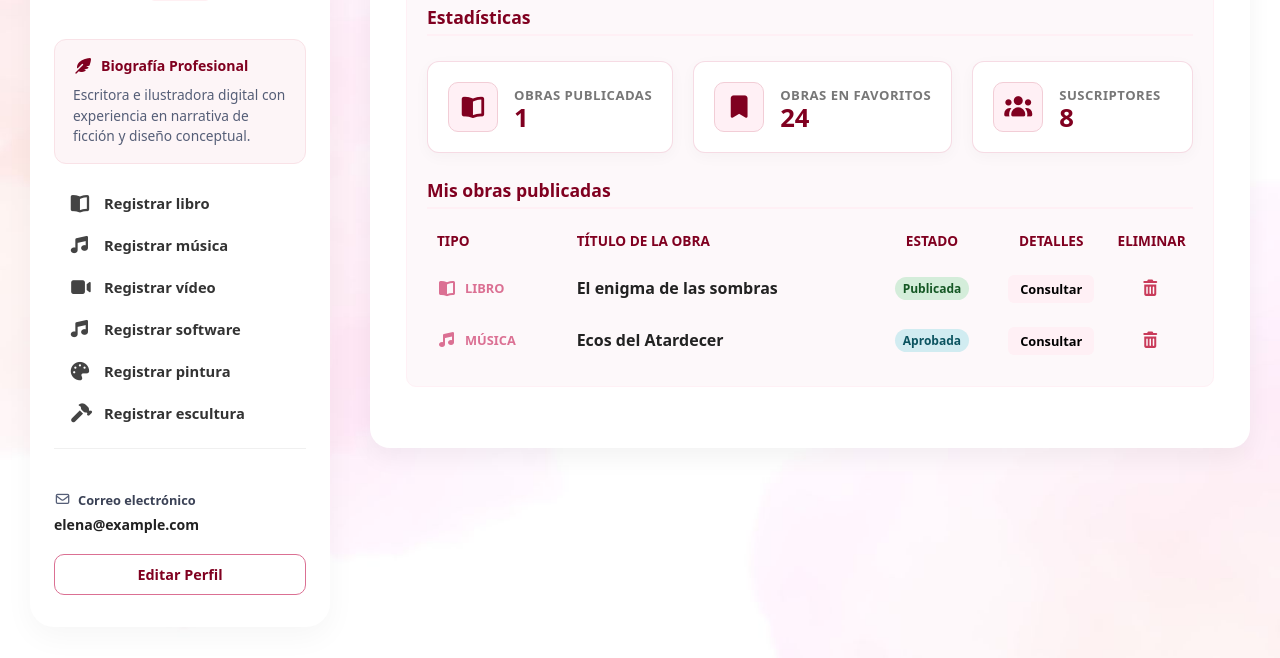
Panel Principal › Vista de Autor › permite editar la biografía profesional del autor
(page scrolled)
Click the button with class "btn-outline-edit" at (180, 575), box [54,554,306,595]
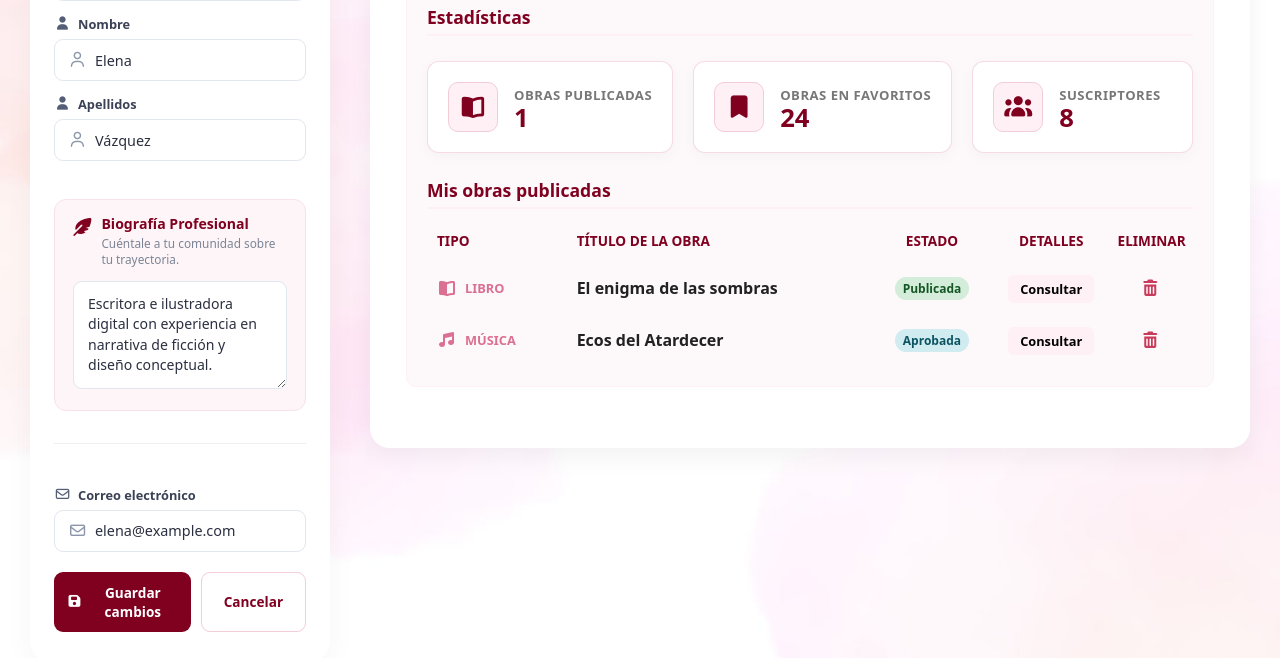
Replace the text in the text box with class "edit-bio-textarea" with "Nueva biografía." at (180, 335), box [73,281,287,389]
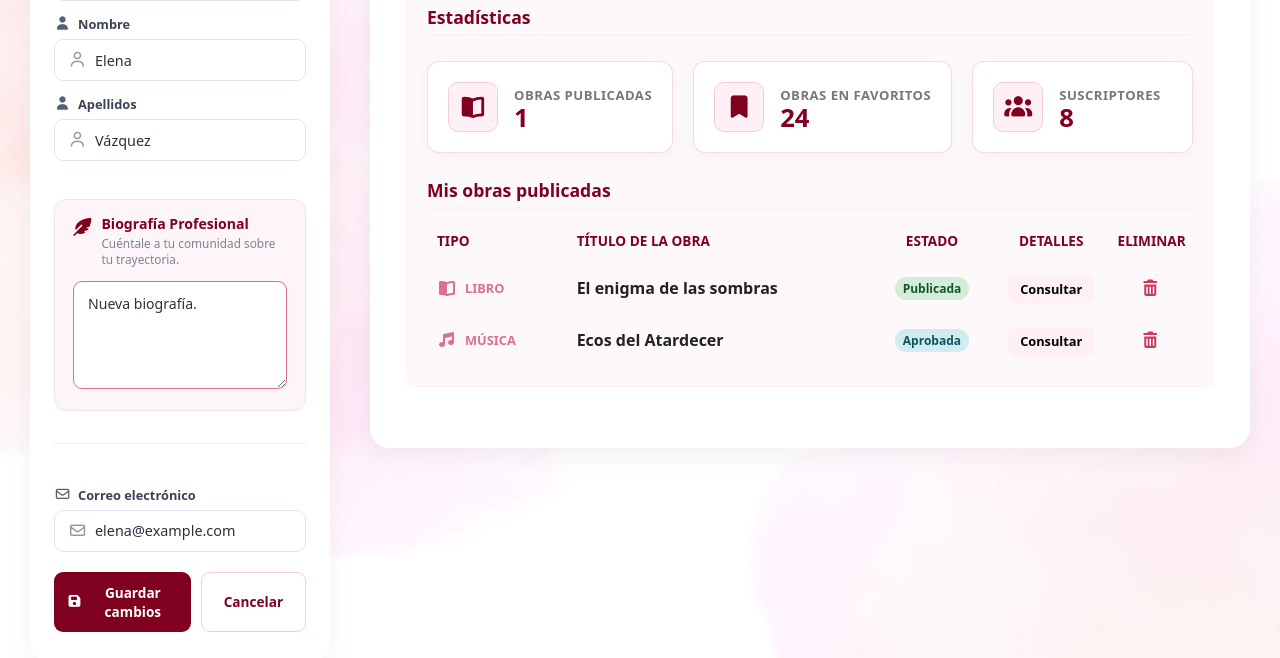
Click the button with class "btn-save-action" at (123, 602), box [54,572,191,632]
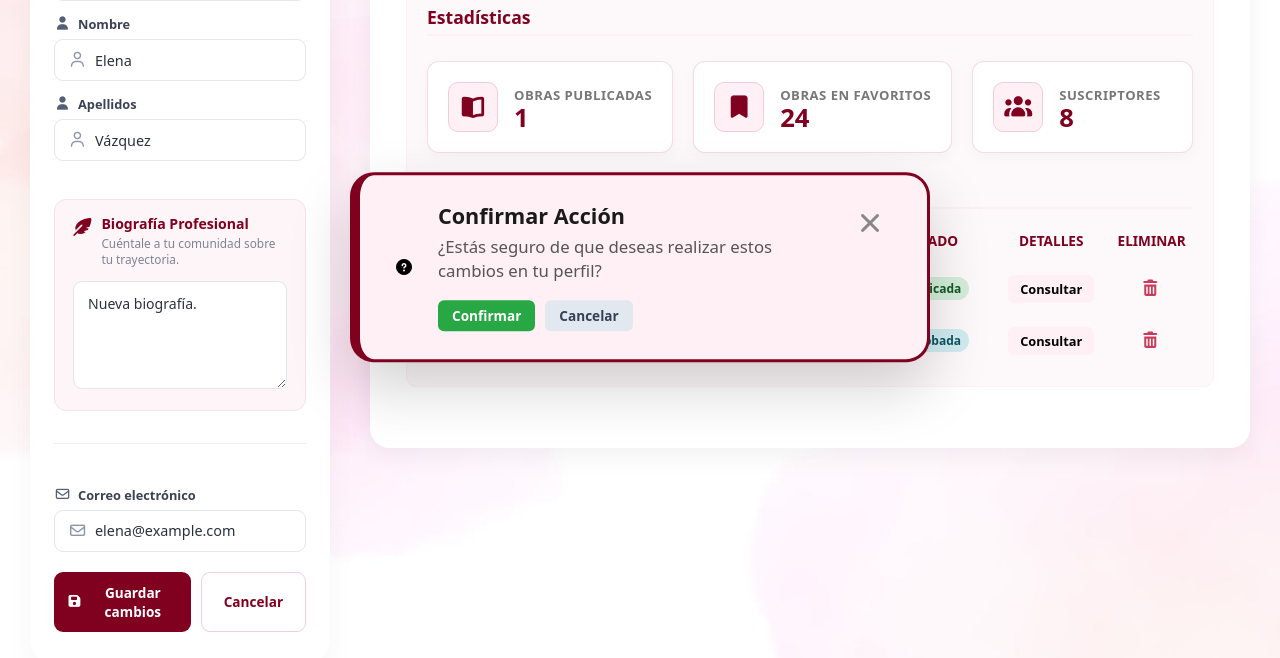
Click the button with class "btn-confirm" at (487, 316), box [438,300,535,331]
(page scrolled)
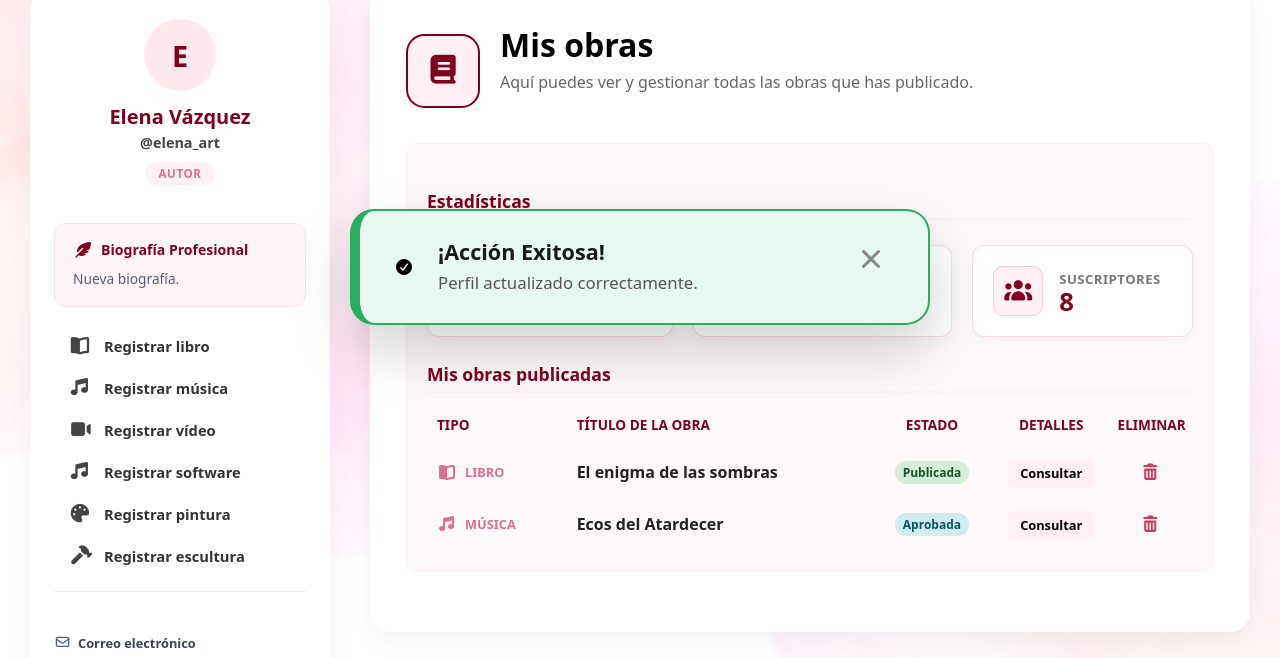
Expected: the text "Nueva biografía." is shown, [73,269,179,288]
